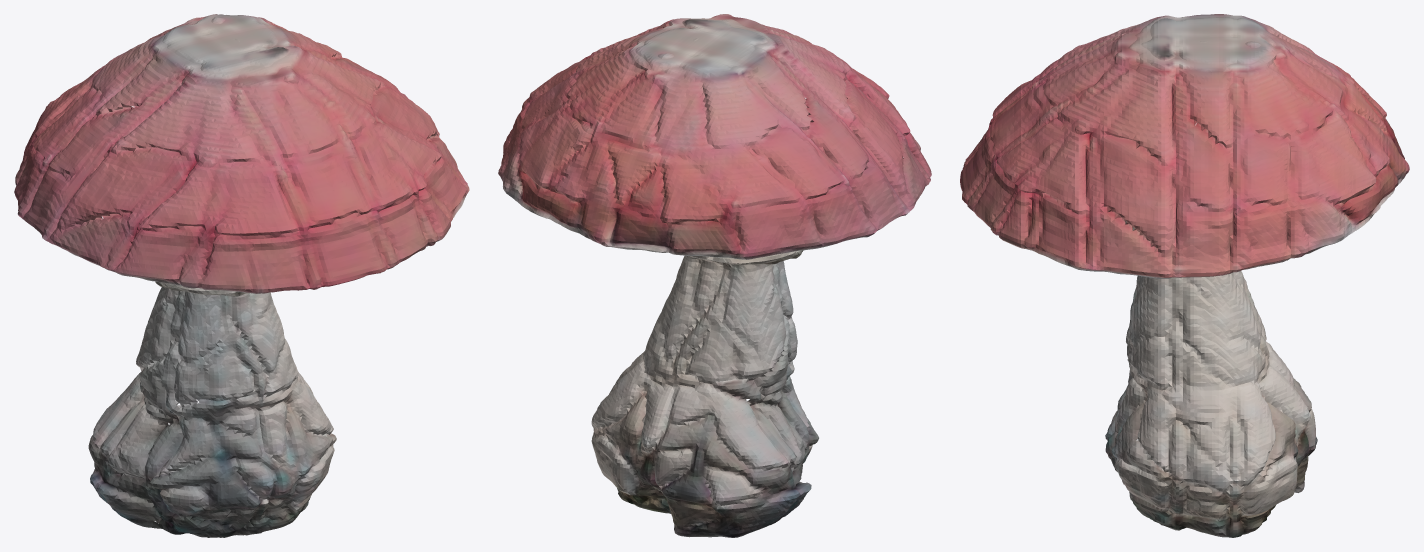
Rendered from low-poly-fantasy-mushroom.glb.
3 views of the same model, side by side, from view 1: azimuth 30°, elevation 25°; view 2: azimuth 150°, elevation 25°; view 3: azimuth 270°, elevation 25° (orthographic). The views are drawn at different scales.
Visible parts, largest first — view 1: world; view 2: world; view 3: world.
Boxes of the visible parts, box(x1,y1,x2,y2) form: world: box(14, 14, 469, 537); world: box(498, 14, 931, 537); world: box(960, 14, 1409, 537).
Size of the model in its own units: 0.863 by 0.9888 by 0.8531.
